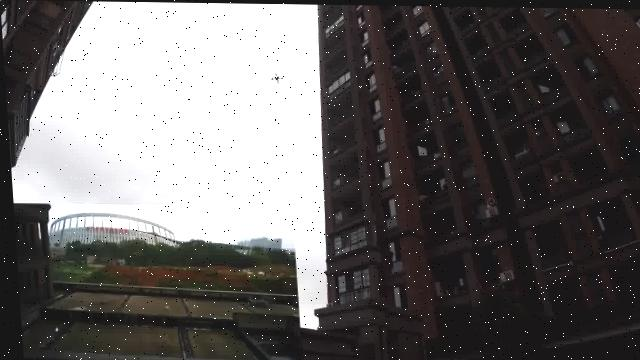drone: (267, 69, 286, 82)
